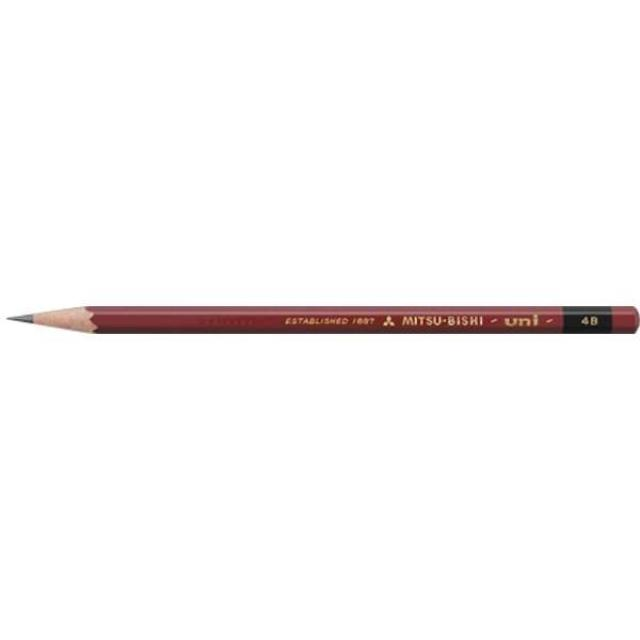pencil: (5, 299, 639, 343)
